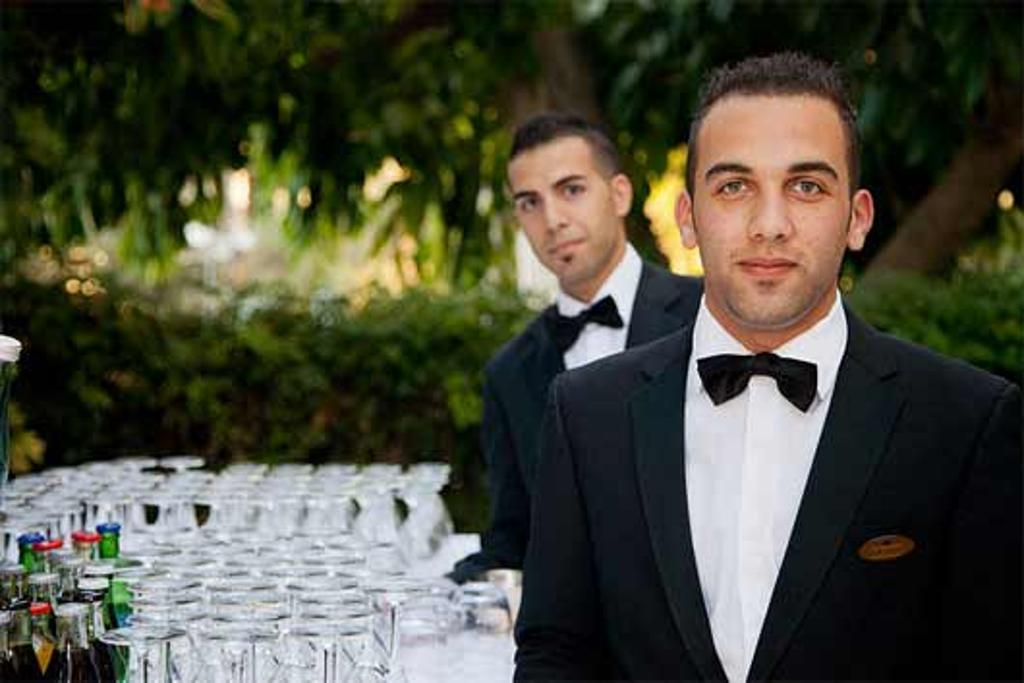face: (692, 90, 854, 326), (506, 144, 616, 278)
